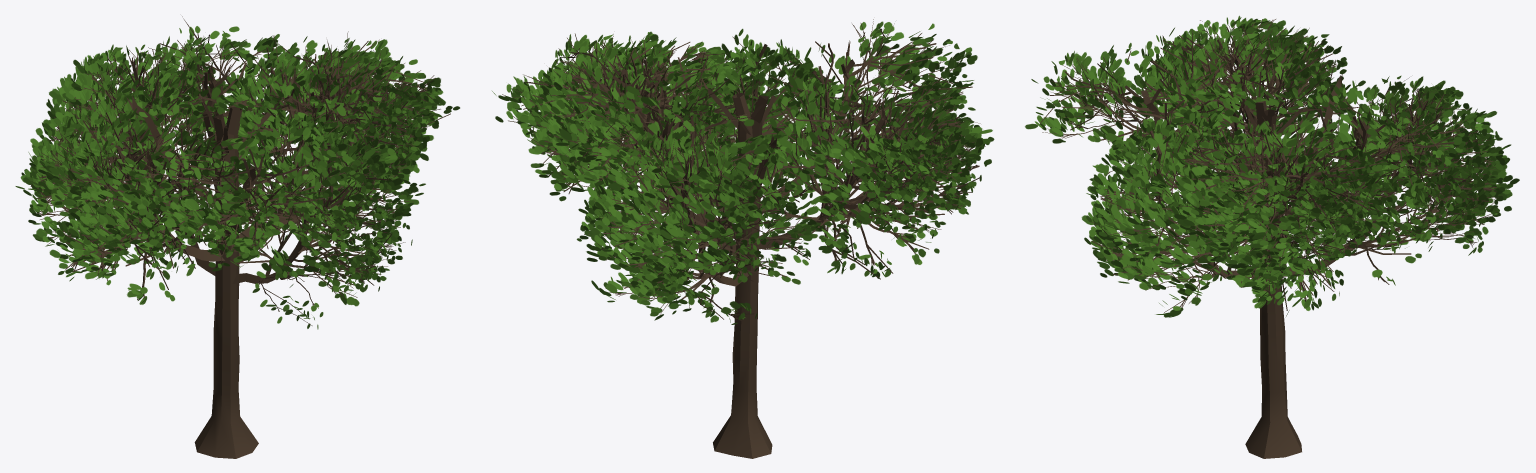
3 views of the same model, side by side, from view 1: azimuth 30°, elevation 25°; view 2: azimuth 150°, elevation 25°; view 3: azimuth 270°, elevation 25° (orthographic). The views are drawn at different scales.
Parts seen in each view (by area): view 1: oak 01.001_trunk_Mat.001_0.146; view 2: oak 01.001_trunk_Mat.001_0.146; view 3: oak 01.001_trunk_Mat.001_0.146.
Boxes of the visible parts, box(x1,y1,x2,y2) form: oak 01.001_trunk_Mat.001_0.146: box(15, 16, 459, 458); oak 01.001_trunk_Mat.001_0.146: box(492, 19, 994, 458); oak 01.001_trunk_Mat.001_0.146: box(1025, 15, 1519, 458).
Size of the model in its own units: 5.45 by 4.41 by 5.56.
Materials: 2 (1 with a texture image).
